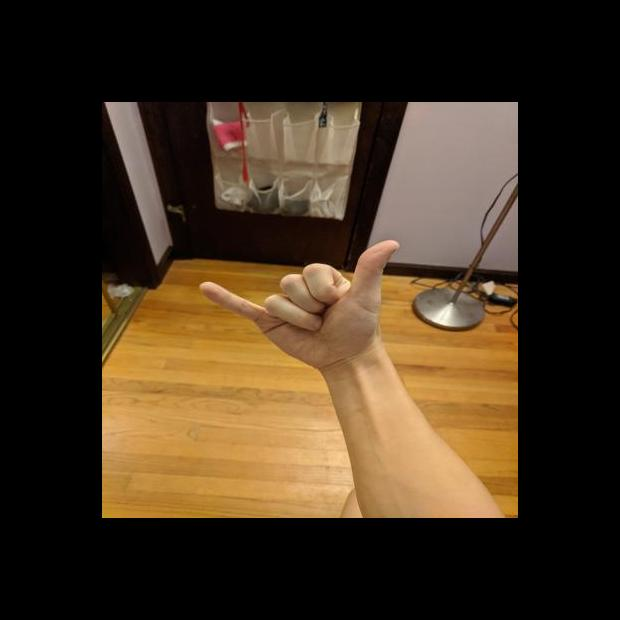X: (196, 237, 405, 374)
